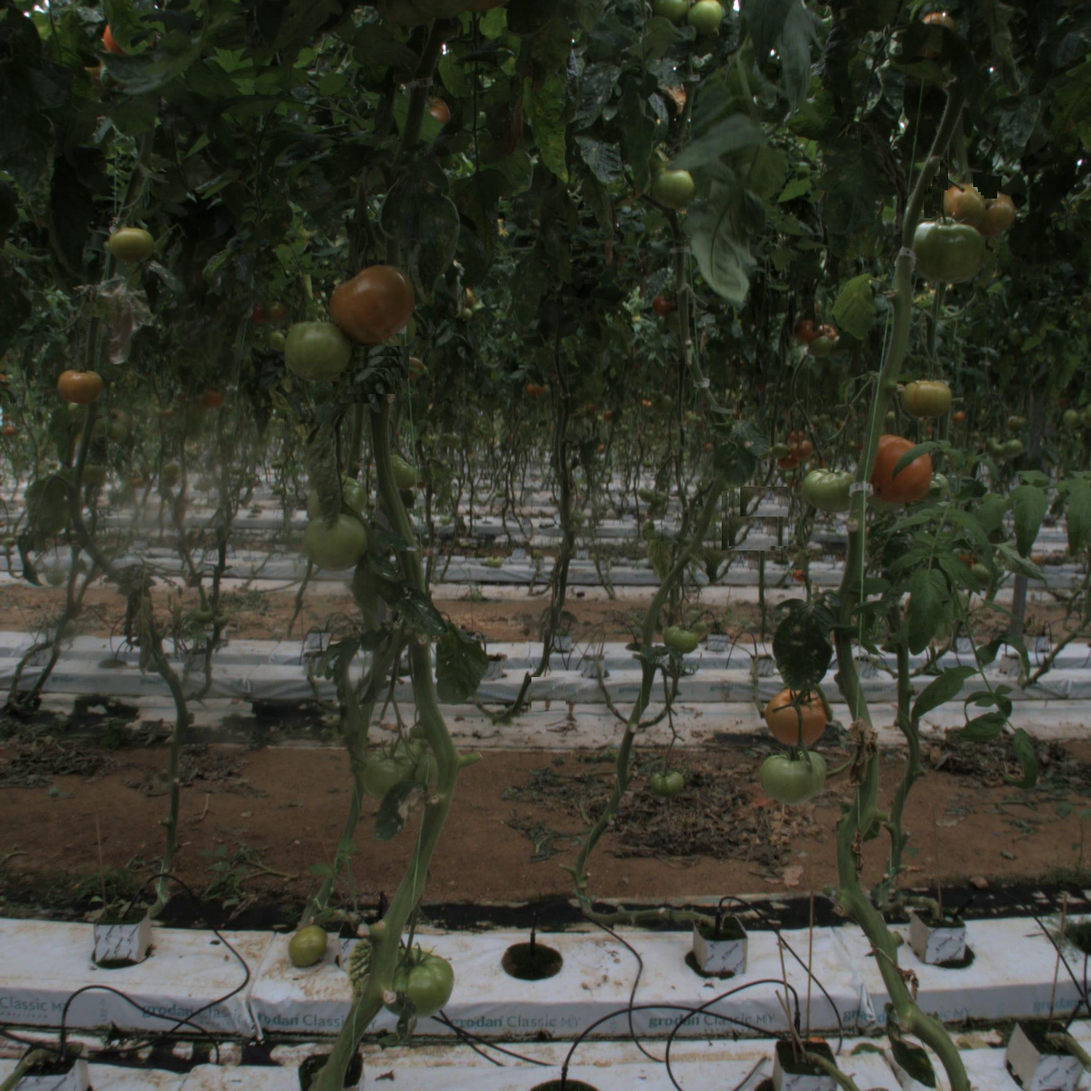['unripe', 'semi-ripe', 'fully-ripe']: (916, 214, 981, 279), (762, 748, 826, 813), (280, 321, 345, 385), (386, 947, 450, 1011), (305, 512, 369, 576), (361, 746, 415, 801), (284, 923, 332, 971), (805, 468, 850, 513), (907, 374, 952, 419), (654, 163, 698, 208), (111, 223, 156, 267), (665, 620, 700, 655), (649, 766, 684, 801)
